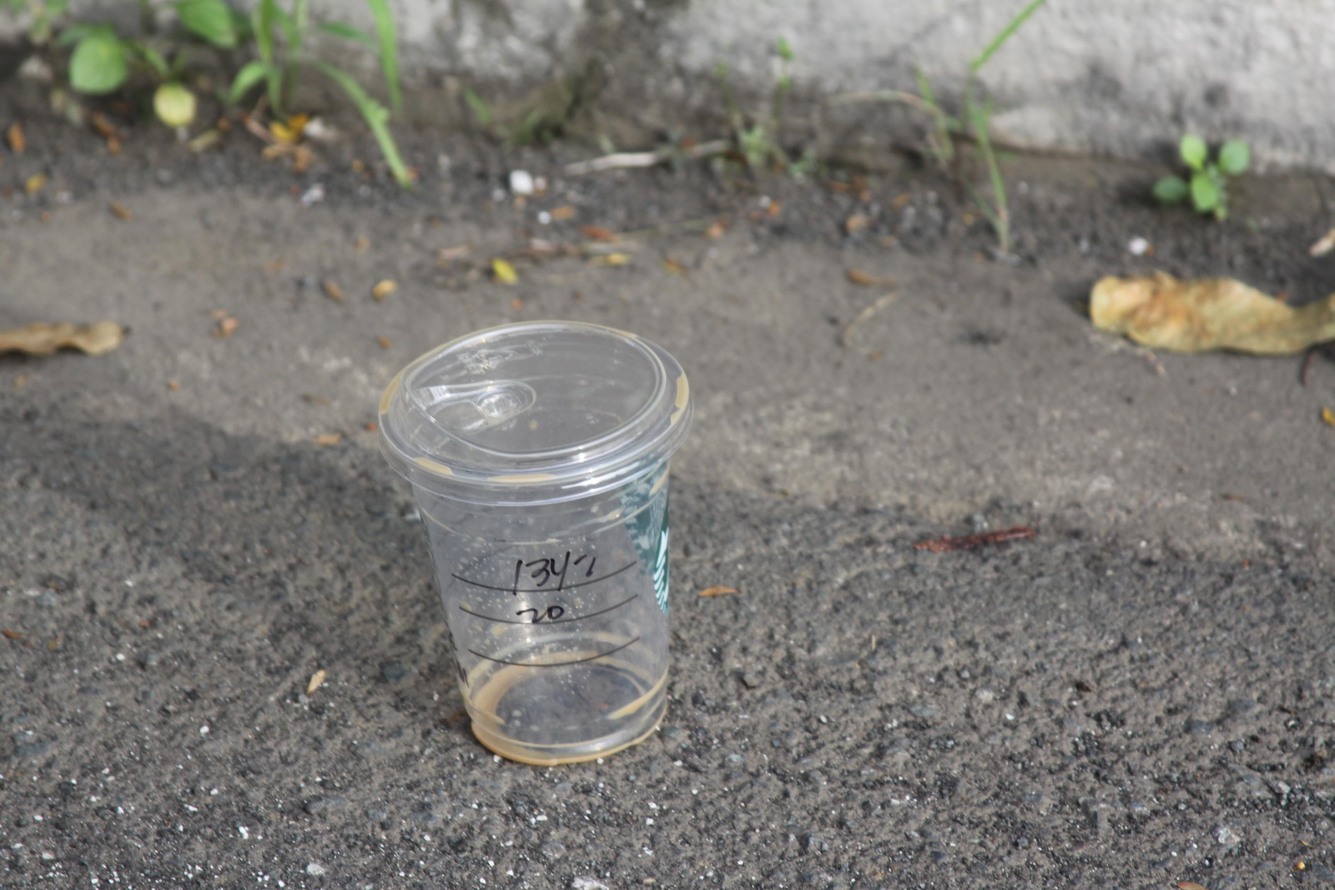Plastic: (374, 315, 697, 771)
